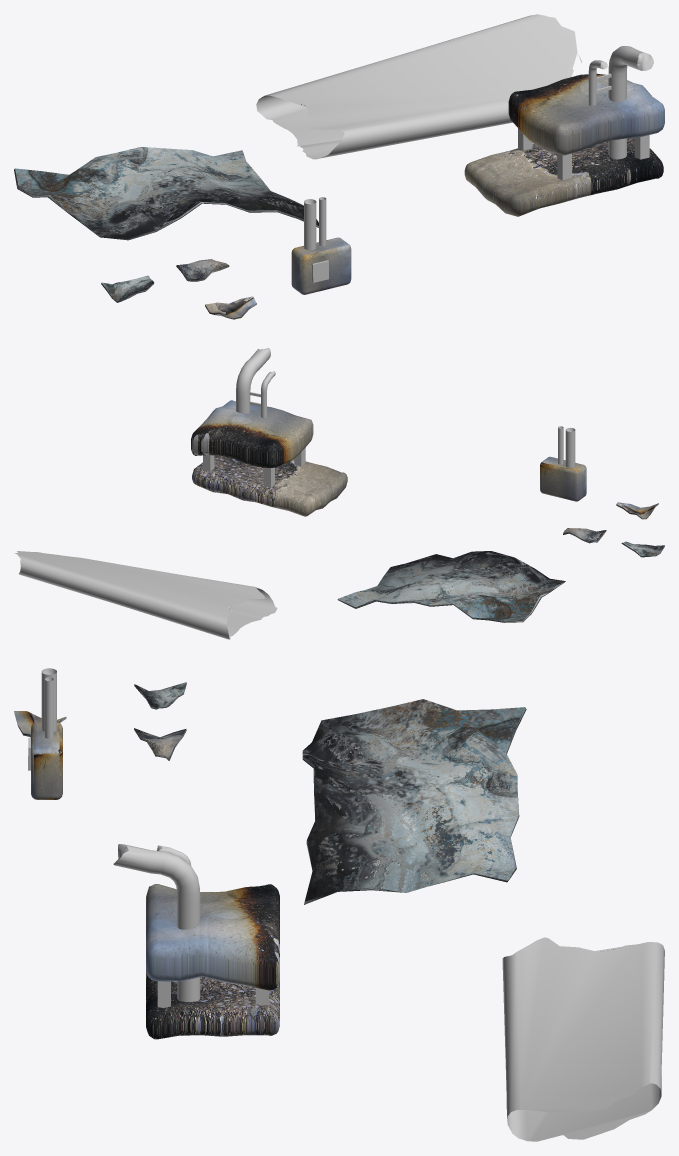
The model's file is Debris.FBX.
3 renders of one model, top to bottom at view 1: azimuth 30°, elevation 25°; view 2: azimuth 150°, elevation 25°; view 3: azimuth 270°, elevation 25°, orthographic. The views are drawn at different scales.
Parts seen in each view (by area): view 1: LargeDebris2, MedDebris2, ChamferBox01, ChamferBox02, ChamferBox03, Cylinder01, SmallDebris1, SmallDebris2, SmallDebris3, Cylinder03, Cylinder02; view 2: LargeDebris2, MedDebris2, ChamferBox02, ChamferBox01, ChamferBox03, Cylinder01; view 3: MedDebris2, LargeDebris2, ChamferBox02, ChamferBox01, Cylinder01, ChamferBox03, SmallDebris2, SmallDebris1.
Part boxes in pixels (<box>): LargeDebris2: <box>256,14,582,159</box>; MedDebris2: <box>14,147,318,240</box>; ChamferBox01: <box>464,137,663,216</box>; ChamferBox02: <box>508,73,664,155</box>; ChamferBox03: <box>291,237,351,294</box>; Cylinder01: <box>608,46,653,159</box>; SmallDebris1: <box>101,275,154,302</box>; SmallDebris2: <box>176,259,229,281</box>; SmallDebris3: <box>205,296,256,319</box>; Cylinder03: <box>304,199,316,250</box>; Cylinder02: <box>588,60,607,105</box>; LargeDebris2: <box>14,551,277,639</box>; MedDebris2: <box>337,551,565,622</box>; ChamferBox02: <box>191,400,313,467</box>; ChamferBox01: <box>192,455,347,516</box>; ChamferBox03: <box>540,456,586,501</box>; Cylinder01: <box>236,348,270,413</box>; MedDebris2: <box>302,699,526,904</box>; LargeDebris2: <box>502,937,664,1141</box>; ChamferBox02: <box>146,884,279,990</box>; ChamferBox01: <box>146,970,279,1039</box>; Cylinder01: <box>113,844,200,1001</box>; ChamferBox03: <box>31,722,62,799</box>; SmallDebris2: <box>134,728,186,760</box>; SmallDebris1: <box>134,682,186,709</box>.
Size of the model in its own units: 14.67 by 4.23 by 10.29.
